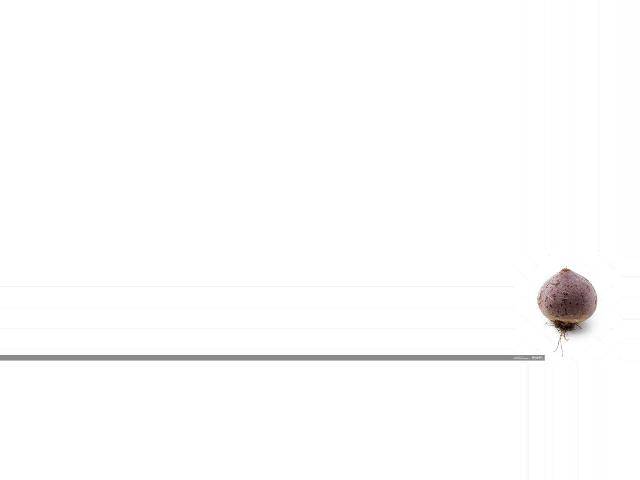beet: (536, 267, 597, 357)
